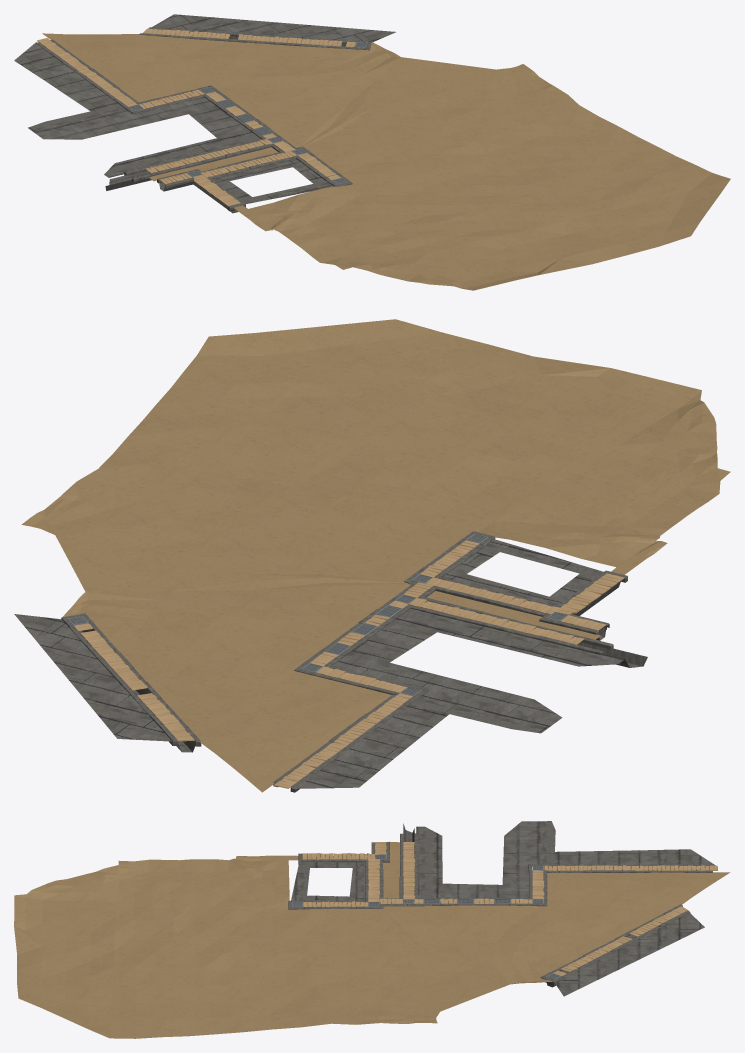
Rendered from SM_ENV_KNVLLG_ground_14.fbx.
3 renders of one model, top to bottom at view 1: azimuth 30°, elevation 25°; view 2: azimuth 150°, elevation 25°; view 3: azimuth 270°, elevation 25°, orthographic. The views are drawn at different scales.
Visible parts, largest first — view 1: SM_ENV_KNVLLG_ground_14.mo; view 2: SM_ENV_KNVLLG_ground_14.mo; view 3: SM_ENV_KNVLLG_ground_14.mo.
Part boxes in pixels (x1=…): SM_ENV_KNVLLG_ground_14.mo: x1=14, y1=14, x2=730, y2=290; SM_ENV_KNVLLG_ground_14.mo: x1=14, y1=319, x2=730, y2=792; SM_ENV_KNVLLG_ground_14.mo: x1=14, y1=821, x2=730, y2=1038.
Size of the model in its own units: 9300 by 210 by 12800.
